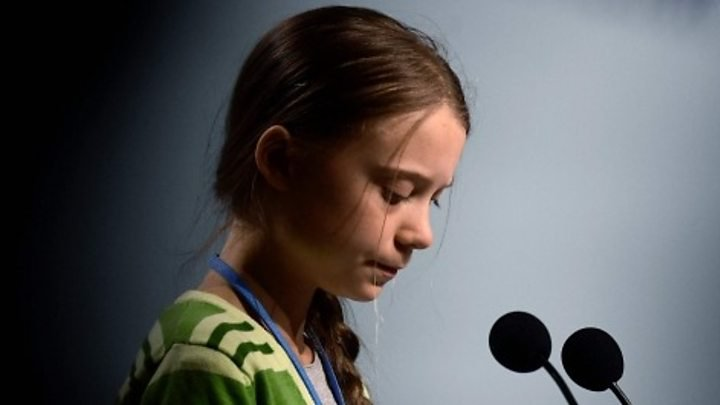noMask: (203, 5, 511, 319)
